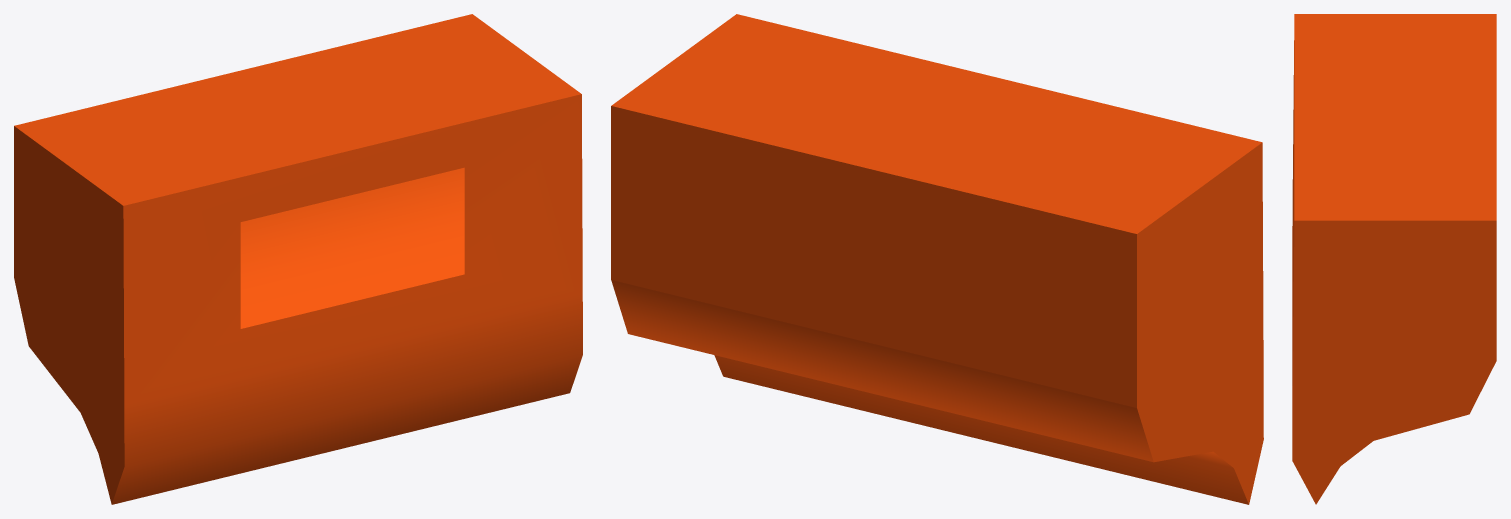
File: Beard 01.FBX
3 views of the same model, side by side, from view 1: azimuth 30°, elevation 25°; view 2: azimuth 150°, elevation 25°; view 3: azimuth 270°, elevation 25° (orthographic). The views are drawn at different scales.
Visible parts, largest first — view 1: Beard 01; view 2: Beard 01; view 3: Beard 01.
Part boxes in pixels (x1=…): Beard 01: x1=14, y1=14, x2=582, y2=504; Beard 01: x1=611, y1=14, x2=1263, y2=504; Beard 01: x1=1292, y1=14, x2=1496, y2=504.
Size of the model in its own units: 52.16 by 33.44 by 21.79.
Materials: 1 (1 with a texture image).
